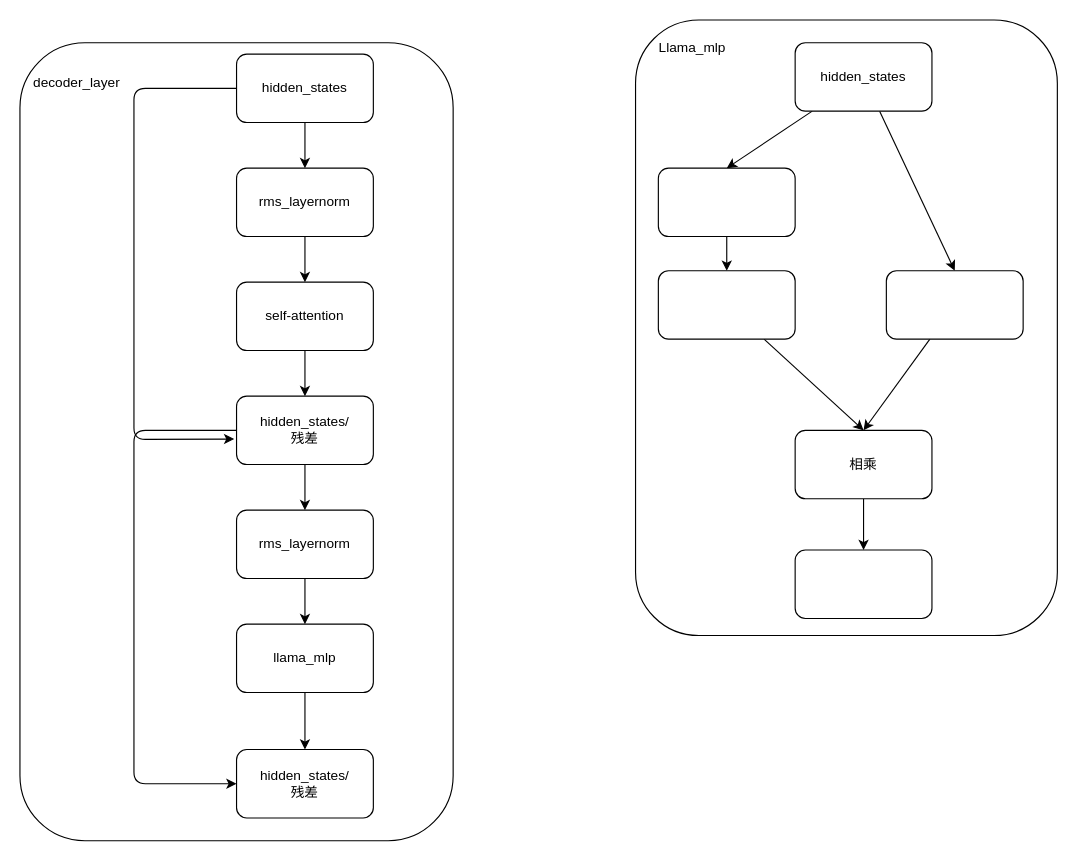
Some shapes in this 1077 by 861 pixel diagram are drawn without their labels. Here are the shapes that lost their labels. From the top down, the box of each, then its label:
(657, 167, 795, 237): gate_proj
(657, 270, 795, 339): SwiGLU
(885, 270, 1023, 339): up_proj
(794, 549, 932, 618): down_proj
